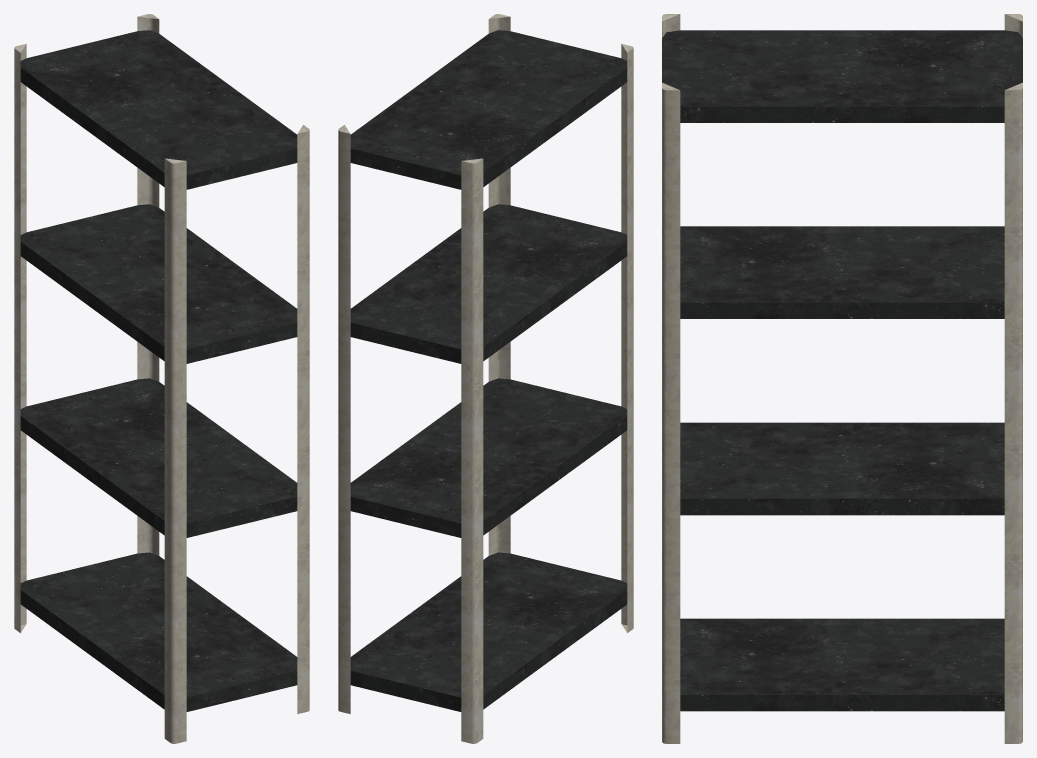
File: shelf1.glb
3 renders of one model, left to right at view 1: azimuth 30°, elevation 25°; view 2: azimuth 150°, elevation 25°; view 3: azimuth 270°, elevation 25°, orthographic. The views are drawn at different scales.
Visible parts, largest first — view 1: shelf1; view 2: shelf1; view 3: shelf1.
Boxes of the visible parts, x1=… form: shelf1: x1=14, y1=14, x2=309, y2=743; shelf1: x1=338, y1=14, x2=633, y2=743; shelf1: x1=662, y1=14, x2=1022, y2=743.
Bounding box in the file's own units: 0.5 × 2 × 1.
2 materials, 2 textured.
